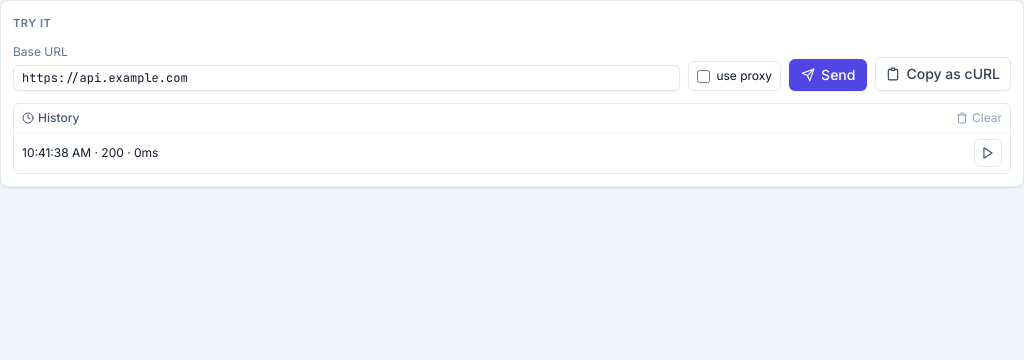
renders a red chip with "Expected 200, got 404" when status fails
The image size is (1024, 360).
What coordinates should you click on to do the following:
click the button "Send"
I would click on:
 (828, 75)
Its box is [789,59,867,91].
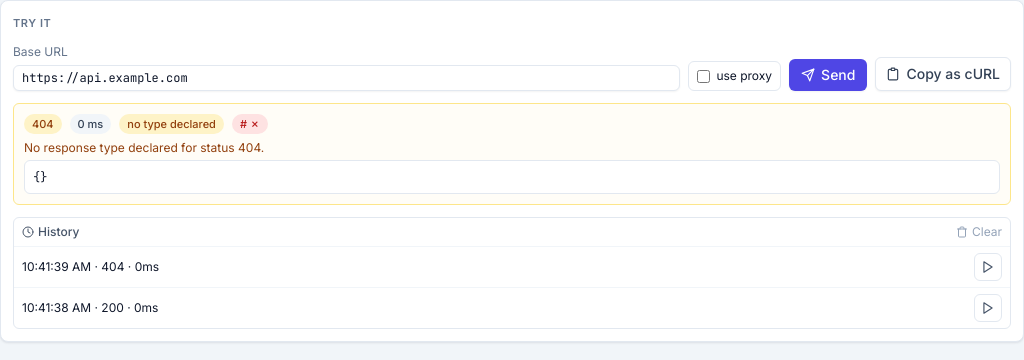
Now the text titled "Expected 200, got 404" is shown, box [232,114,268,134]
